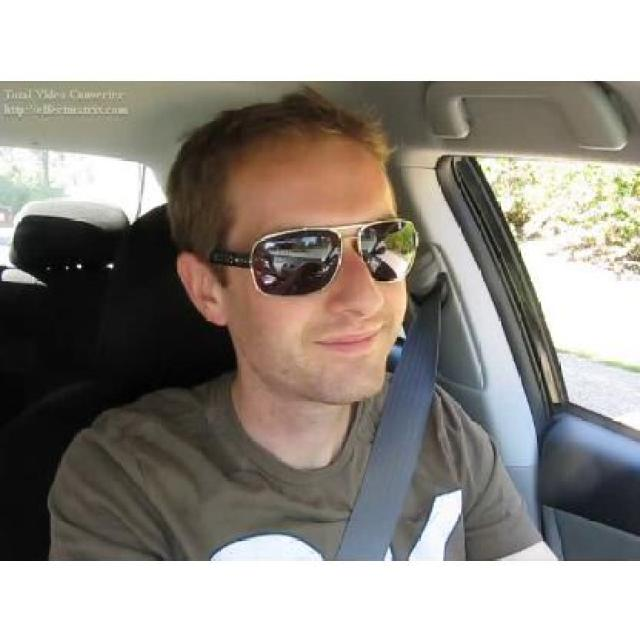attentif: (175, 91, 419, 407)
